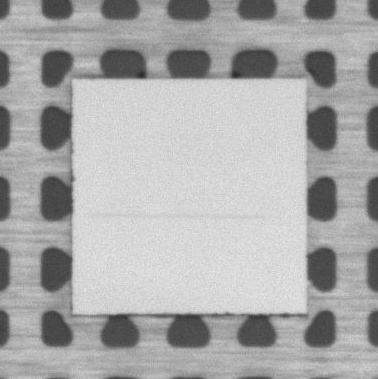DIE_CRACK: (89, 210, 275, 220)
